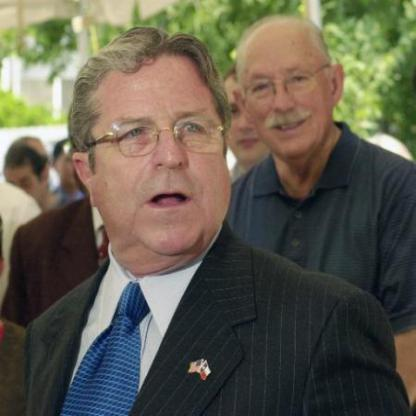face: (83, 37, 233, 260), (240, 17, 335, 157), (219, 68, 280, 166), (2, 145, 47, 216)
